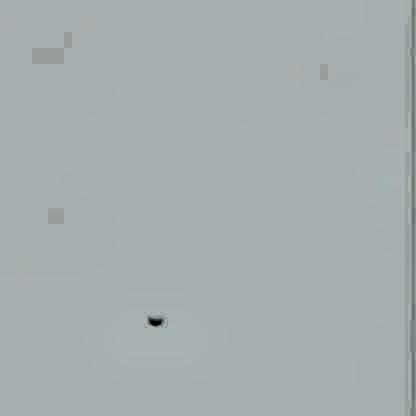golfball: (143, 312, 161, 323)
